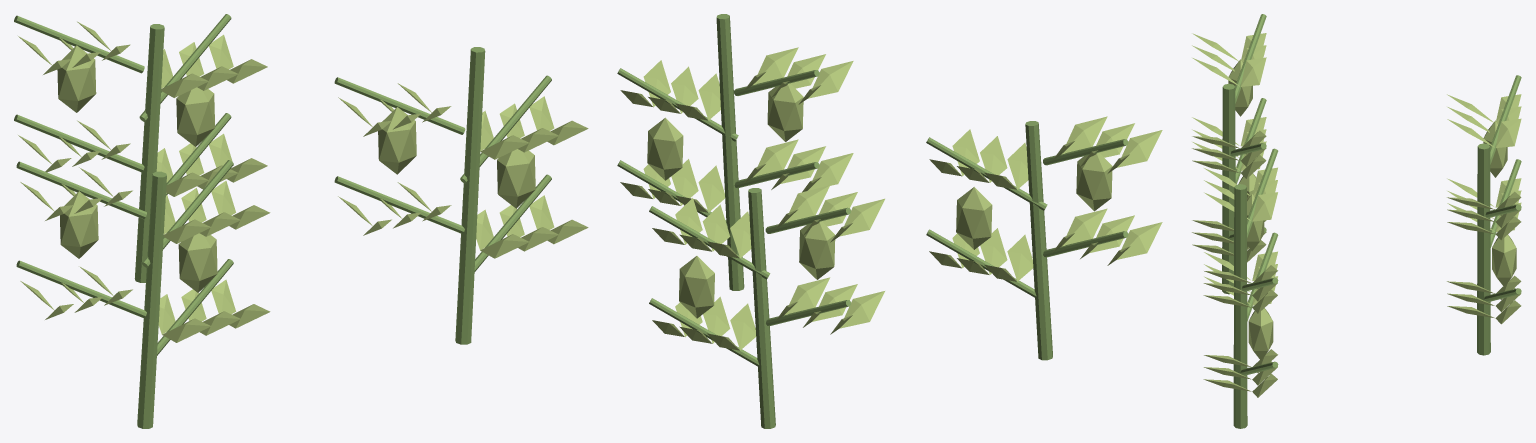
3 renders of one model, left to right at view 1: azimuth 30°, elevation 25°; view 2: azimuth 150°, elevation 25°; view 3: azimuth 270°, elevation 25°, orthographic. The views are drawn at different scales.
Parts seen in each view (by area): view 1: GF-003 Chickpea crop patch batched; view 2: GF-003 Chickpea crop patch batched; view 3: GF-003 Chickpea crop patch batched.
Boxes of the visible parts, x1,y1,x2,y2 form: GF-003 Chickpea crop patch batched: [14, 14, 588, 428]; GF-003 Chickpea crop patch batched: [617, 14, 1162, 428]; GF-003 Chickpea crop patch batched: [1192, 14, 1521, 428].
Size of the model in its own units: 0.9159 by 0.4676 by 0.5702.
